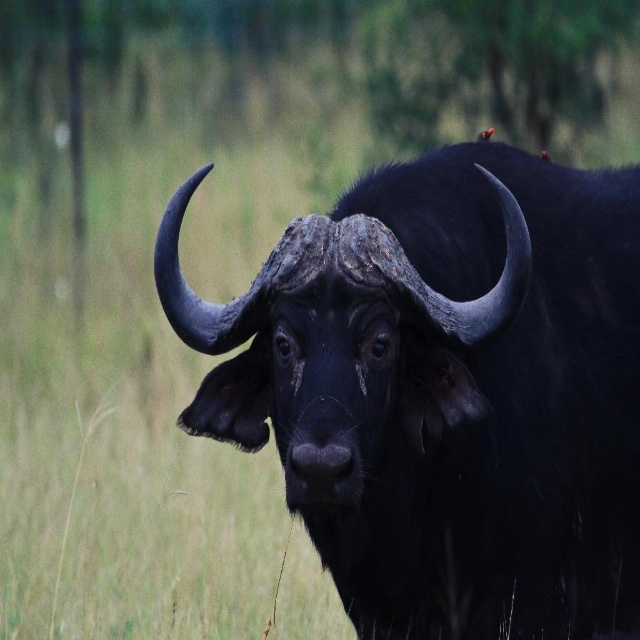Cattle: (154, 141, 640, 640)
